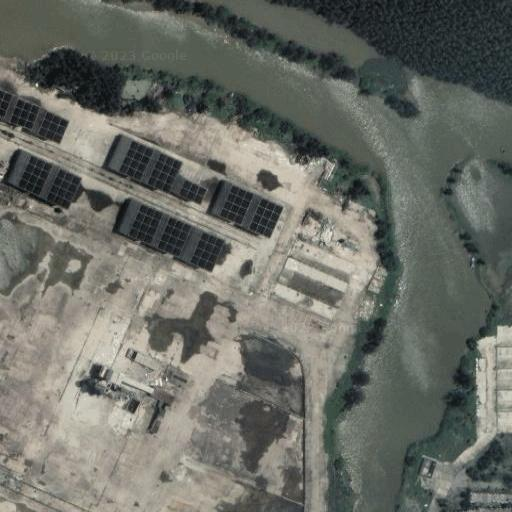building: (268, 277, 341, 324), (278, 254, 350, 300), (205, 175, 263, 230), (289, 238, 356, 280), (149, 214, 199, 266), (118, 202, 165, 253), (10, 151, 56, 201), (184, 228, 229, 278), (40, 164, 85, 214), (114, 137, 159, 182), (248, 191, 287, 240), (473, 368, 497, 441), (31, 108, 74, 148), (145, 151, 184, 193), (7, 97, 42, 134), (170, 173, 208, 207), (466, 487, 512, 506), (123, 375, 156, 396), (489, 323, 512, 349), (416, 453, 437, 478), (475, 335, 490, 368), (488, 348, 512, 368), (133, 351, 156, 369), (496, 393, 512, 417), (497, 369, 512, 393), (153, 389, 176, 404), (495, 417, 512, 433), (108, 369, 121, 384), (126, 348, 138, 361), (115, 373, 125, 388)
